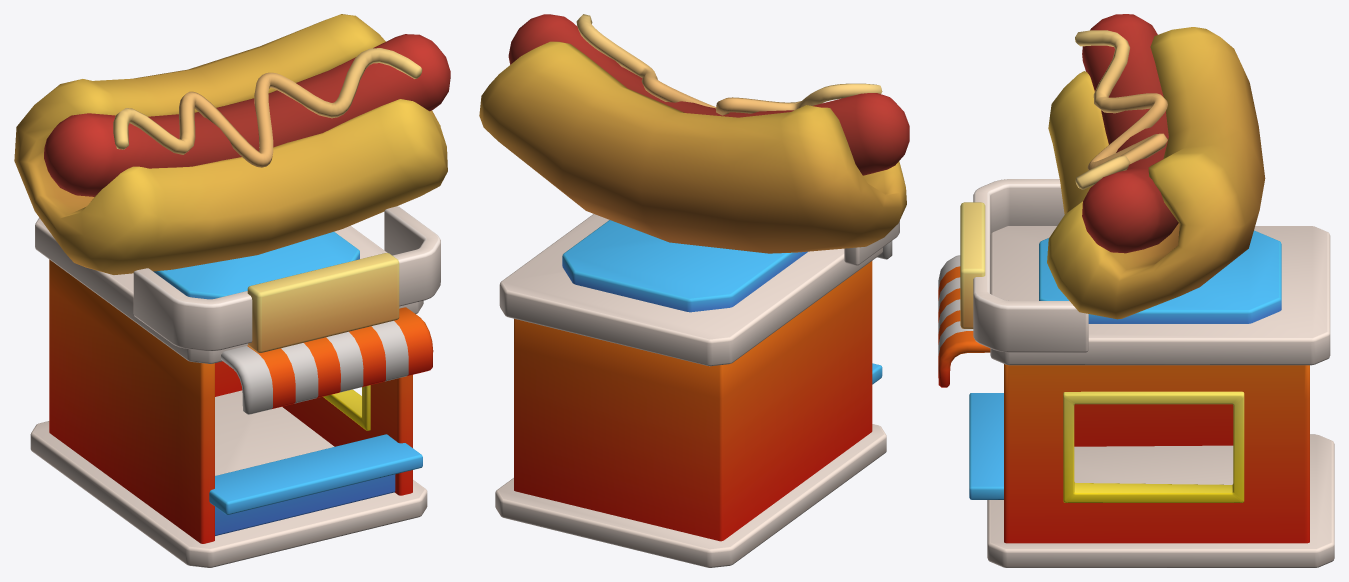
Rendered from lpb_store_hotdog.fbx.
The picture shows the model from 3 angles, left to right: view 1: azimuth 30°, elevation 25°; view 2: azimuth 150°, elevation 25°; view 3: azimuth 270°, elevation 25°; orthographic projection.
Parts seen in each view (by area): view 1: Store; view 2: Store; view 3: Store.
Part boxes in pixels (left/top/right/bottom): Store: left=14, top=14, right=450, bottom=567; Store: left=479, top=14, right=909, bottom=567; Store: left=938, top=14, right=1334, bottom=567.
Size of the model in its own units: 528 by 535 by 460.
